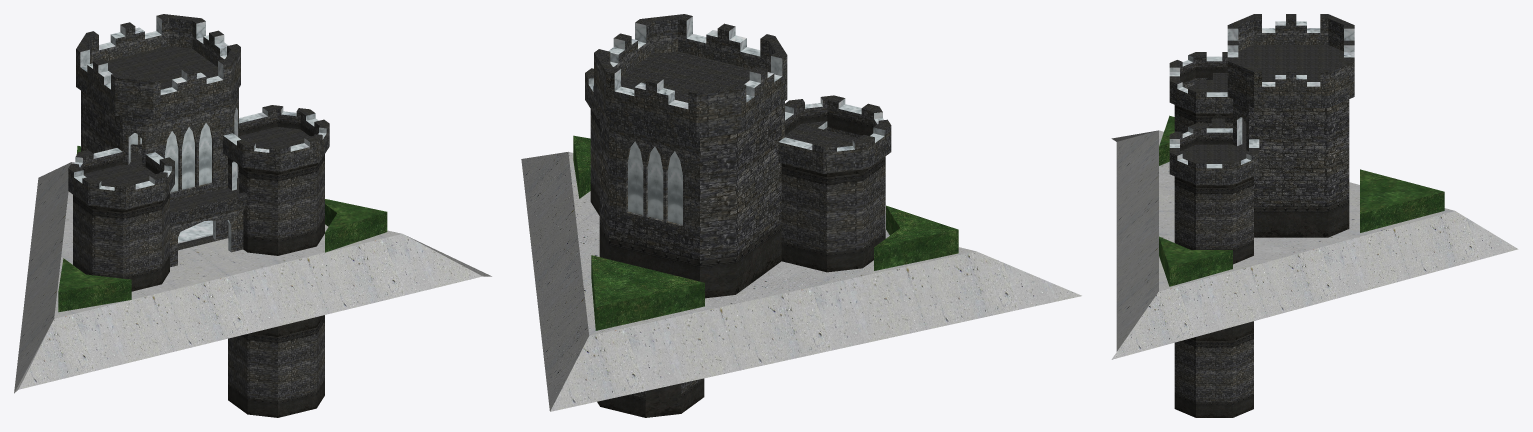
The model's file is BadCastle.gltf.
3 renders of one model, left to right at view 1: azimuth 30°, elevation 25°; view 2: azimuth 150°, elevation 25°; view 3: azimuth 270°, elevation 25°, orthographic. The views are drawn at different scales.
Visible parts, largest first — view 1: BadCastle; view 2: BadCastle; view 3: BadCastle.
Boxes of the visible parts, bbox=[...] form: BadCastle: bbox=[14, 14, 491, 417]; BadCastle: bbox=[521, 14, 1081, 417]; BadCastle: bbox=[1111, 14, 1518, 417].
Bounding box in the file's own units: 49.5 × 33.5 × 38.5.
13 materials, 13 textured.
